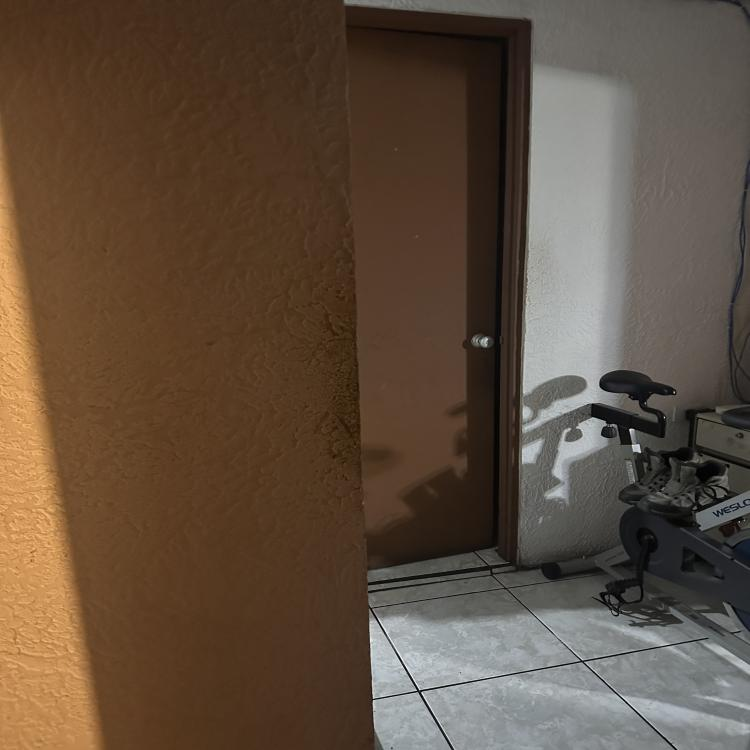ClosedDoor: (322, 7, 541, 588)
